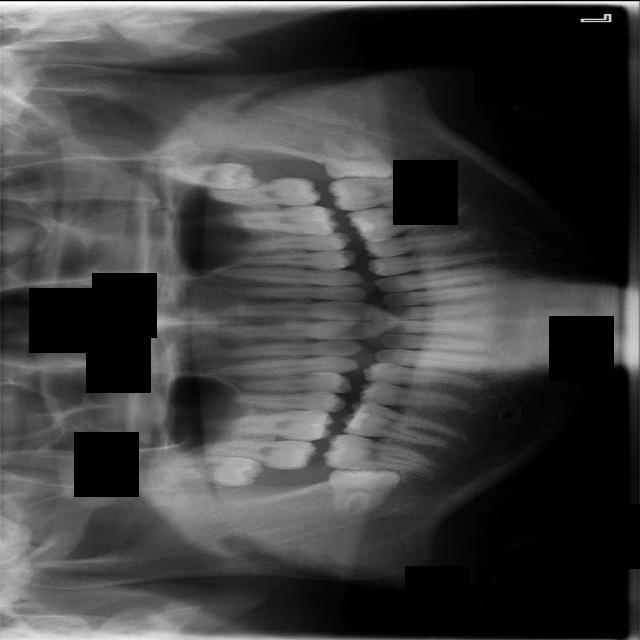3M ESPE Implant: (151, 455, 264, 488)
52: (340, 397, 403, 440), (346, 199, 401, 247), (285, 202, 343, 237), (278, 407, 334, 441), (379, 361, 398, 369)
73: (581, 32, 595, 38)
BioHorizons Implant: (210, 174, 325, 206)
BioLife Implant: (159, 158, 263, 190)
Biomet 3i Implant: (320, 129, 394, 185)
Blue Sky Bio Implant: (327, 172, 443, 211)
Caries: (184, 438, 319, 470)
Implant: (322, 431, 440, 476)
Keystone Dental Implant: (326, 458, 406, 518)
